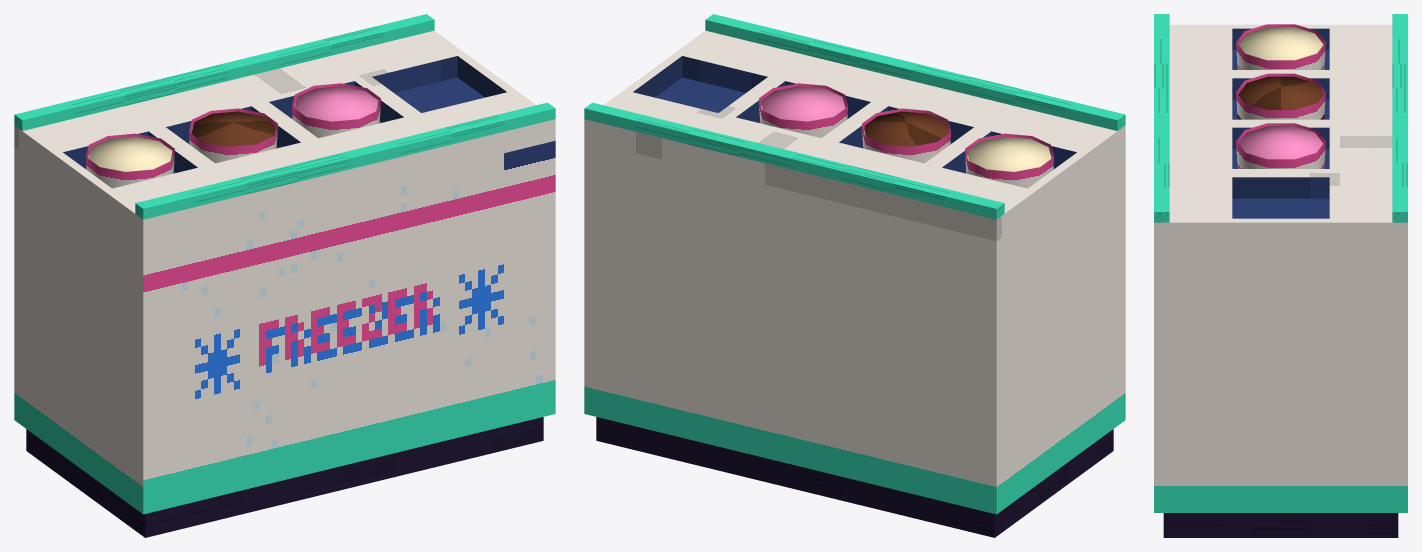
File: Freezer Rack.fbx
The picture shows the model from 3 angles, left to right: view 1: azimuth 30°, elevation 25°; view 2: azimuth 150°, elevation 25°; view 3: azimuth 270°, elevation 25°; orthographic projection.
Visible parts, largest first — view 1: Freezer Rack freezer body, Freezer Rack freezer deck, Freezer Rack freezer plinth, Freezer Rack freezer rail -0.305, Freezer Rack freezer rail 0.305, Freezer Rack freezer tub 1 cream, Freezer Rack freezer tub 3 cream, Freezer Rack freezer tub 2 cream, Freezer Rack freezer tub 2.001, Freezer Rack freezer tub 3.001, Freezer Rack freezer tub 1.001; view 2: Freezer Rack freezer body, Freezer Rack freezer deck, Freezer Rack freezer plinth, Freezer Rack freezer rail -0.305, Freezer Rack freezer rail 0.305, Freezer Rack freezer tub 1 cream, Freezer Rack freezer tub 3 cream, Freezer Rack freezer tub 2 cream, Freezer Rack freezer tub 2.001, Freezer Rack freezer tub 3.001, Freezer Rack freezer tub 1.001; view 3: Freezer Rack freezer body, Freezer Rack freezer deck, Freezer Rack freezer plinth, Freezer Rack freezer rail -0.305, Freezer Rack freezer rail 0.305, Freezer Rack freezer tub 3 cream, Freezer Rack freezer tub 1 cream, Freezer Rack freezer tub 2 cream, Freezer Rack freezer tub 2.001, Freezer Rack freezer tub 1.001, Freezer Rack freezer tub 3.001.
Boxes of the visible parts, x1,y1,x2,y2 form: Freezer Rack freezer body: (14,77,555,514); Freezer Rack freezer deck: (14,30,555,241); Freezer Rack freezer plinth: (26,417,543,537); Freezer Rack freezer rail -0.305: (135,102,555,219); Freezer Rack freezer rail 0.305: (14,14,434,130); Freezer Rack freezer tub 1 cream: (88,136,172,171); Freezer Rack freezer tub 3 cream: (294,86,378,121); Freezer Rack freezer tub 2 cream: (191,111,275,146); Freezer Rack freezer tub 2.001: (189,108,277,163); Freezer Rack freezer tub 3.001: (292,83,380,138); Freezer Rack freezer tub 1.001: (85,133,174,188); Freezer Rack freezer body: (584,77,1125,514); Freezer Rack freezer deck: (584,30,1125,241); Freezer Rack freezer plinth: (596,417,1113,537); Freezer Rack freezer rail -0.305: (705,14,1125,130); Freezer Rack freezer rail 0.305: (584,102,1004,219); Freezer Rack freezer tub 1 cream: (967,136,1051,171); Freezer Rack freezer tub 3 cream: (761,86,845,121); Freezer Rack freezer tub 2 cream: (864,111,948,146); Freezer Rack freezer tub 2.001: (862,108,950,163); Freezer Rack freezer tub 3.001: (759,83,847,138); Freezer Rack freezer tub 1.001: (965,133,1054,188); Freezer Rack freezer body: (1154,50,1407,512); Freezer Rack freezer deck: (1154,24,1407,243); Freezer Rack freezer plinth: (1163,513,1398,537); Freezer Rack freezer rail -0.305: (1154,14,1169,222); Freezer Rack freezer rail 0.305: (1392,14,1407,222); Freezer Rack freezer tub 3 cream: (1238,126,1323,159); Freezer Rack freezer tub 1 cream: (1238,27,1323,60); Freezer Rack freezer tub 2 cream: (1238,76,1323,109); Freezer Rack freezer tub 2.001: (1236,73,1325,119); Freezer Rack freezer tub 1.001: (1236,24,1325,69); Freezer Rack freezer tub 3.001: (1236,123,1325,168).
Size of the model in its own units: 1.2 by 0.935 by 0.65.
Materials: 11 (11 with a texture image).
